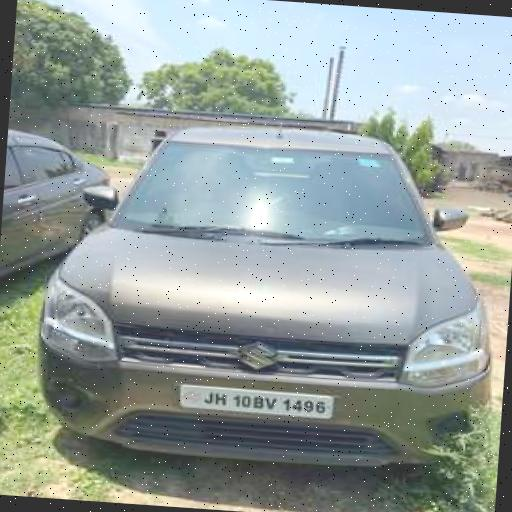license_plate`: (176, 382, 332, 416)
